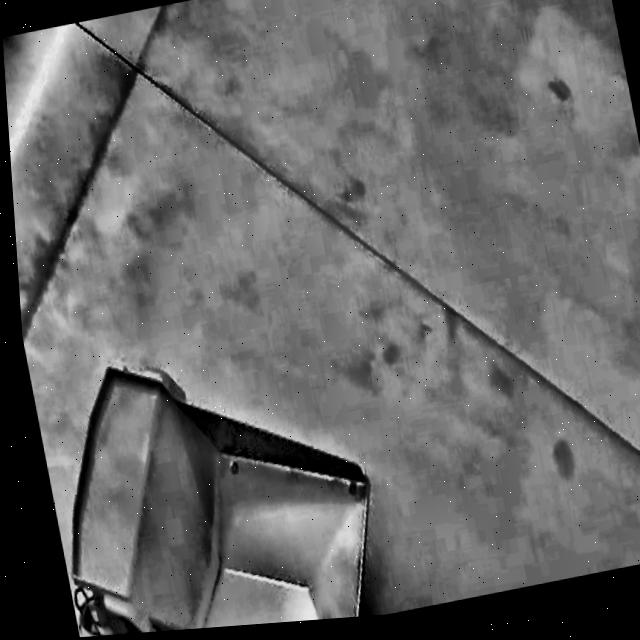dump_truck: (19, 301, 384, 640)
